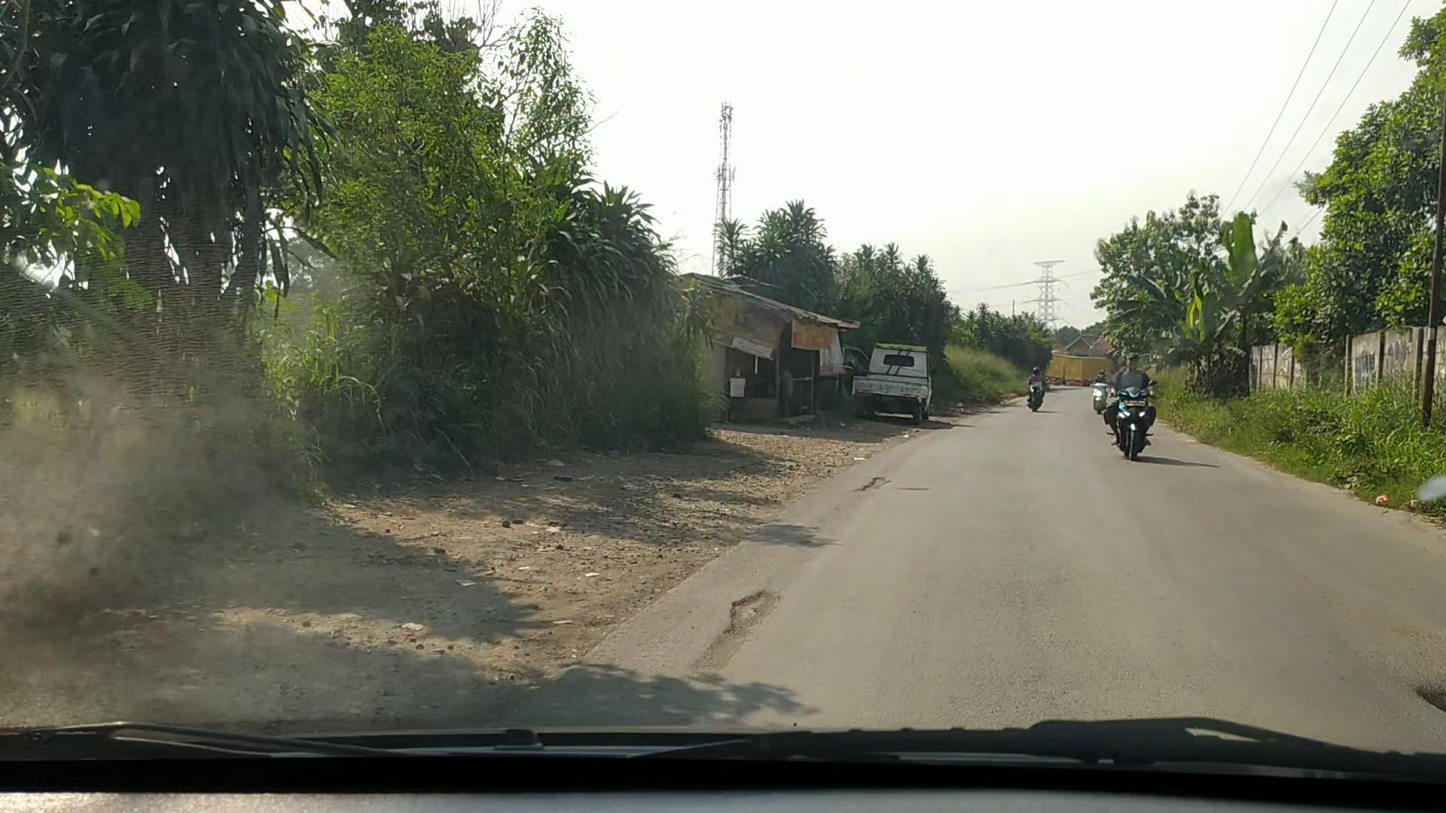pothole: (722, 590, 783, 639), (1413, 687, 1446, 715), (856, 475, 892, 493)
